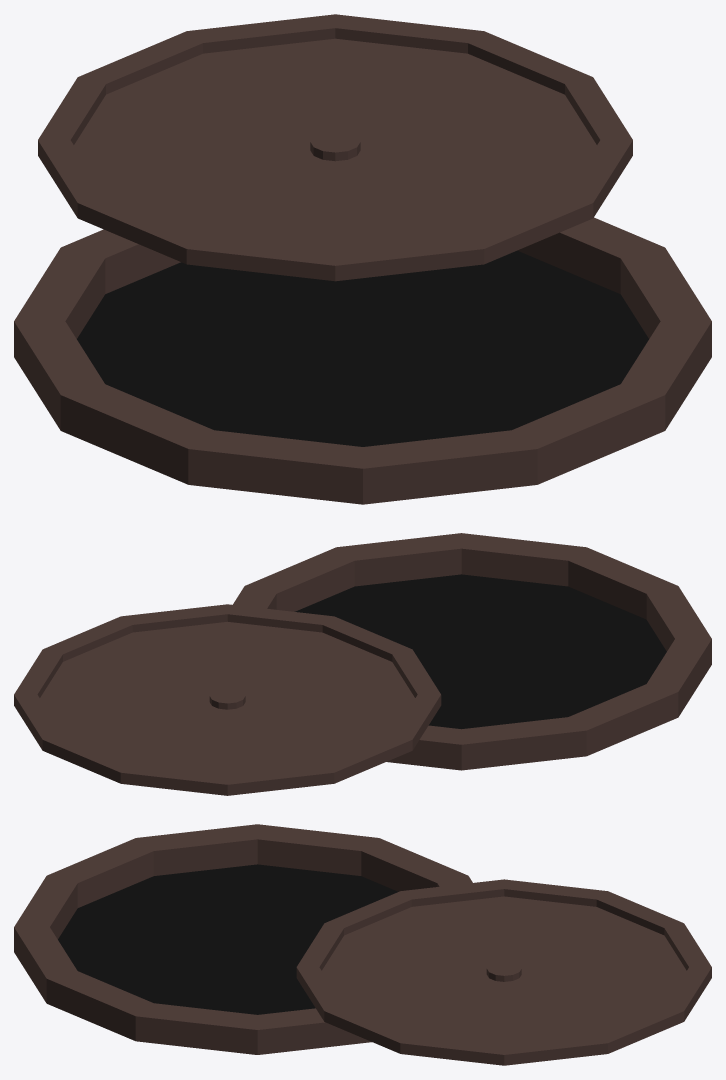
Rendered from FBX_PlaqueEgout.fbx.
3 renders of one model, top to bottom at view 1: azimuth 30°, elevation 25°; view 2: azimuth 150°, elevation 25°; view 3: azimuth 270°, elevation 25°, orthographic. The views are drawn at different scales.
Parts seen in each view (by area): view 1: polySurface10; view 2: polySurface10; view 3: polySurface10.
Boxes of the visible parts, left/top/right/bottom form: polySurface10: left=14, top=14, right=711, bottom=504; polySurface10: left=14, top=533, right=711, bottom=795; polySurface10: left=14, top=824, right=711, bottom=1065.
Size of the model in its own units: 4.22 by 0.2917 by 5.15.
